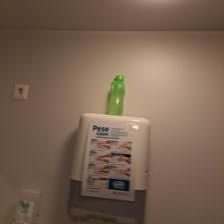bottle: (103, 72, 128, 119)
